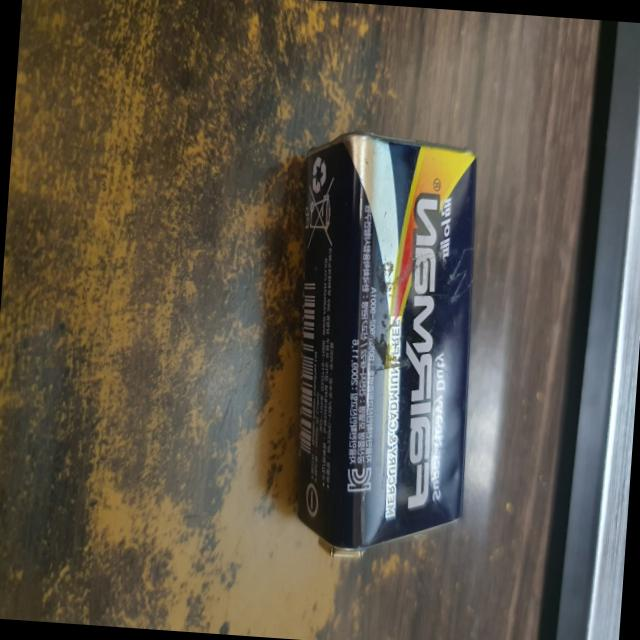battery-etc-etc: (264, 113, 502, 572)
